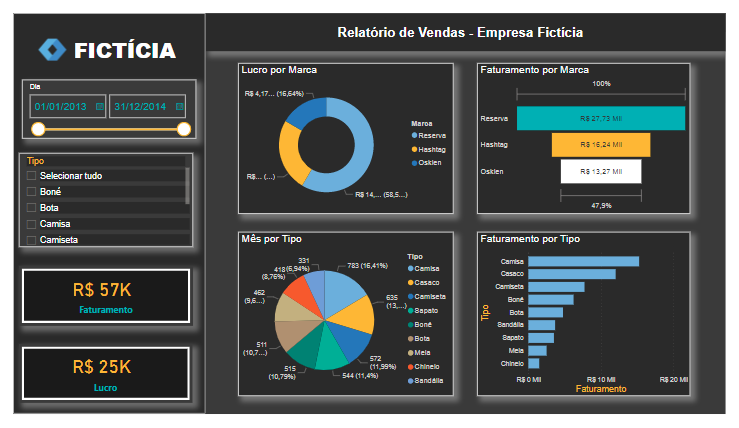

This screenshot's page, from the dashboard's own definition file:
{"tool":"powerbi","page":{"name":"Página 1","canvas":[1280,720],"ordinal":0},"visuals":[{"type":"textbox","box":[345.2,0,934.8,68.4],"z":0},{"type":"donutChart","fields":{"Category":["Tabela 1 (Vendas).Marca"],"Y":["Sum(Tabela 1 (Vendas).Lucro)"]},"box":[403.9,89.3,386.9,270.7],"z":1000},{"type":"pieChart","fields":{"Category":["Tabela 1 (Vendas).Tipo"],"Y":["Sum(Tabela 1 (Vendas).Mês)"]},"box":[403.9,392.6,386.9,294.8],"z":2000},{"type":"funnel","fields":{"Category":["Tabela 1 (Vendas).Marca"],"Y":["Sum(Tabela 1 (Vendas).Faturamento)"]},"box":[833.4,89.3,382.7,270.7],"z":3000},{"type":"shape","box":[0,0,345.2,719.5],"z":4000},{"type":"image","box":[36.9,22.7,66.6,83.6],"z":5000},{"type":"slicer","fields":{"Values":["Tabela 1 (Vendas).Tipo"]},"box":[9.9,250.9,313.2,168.7],"z":6000},{"type":"textbox","box":[103.5,34,218.3,72.3],"z":7000},{"type":"slicer","fields":{"Values":["Tabela 1 (Vendas).Dia"]},"box":[15.6,119.1,313.2,106.3],"z":8000},{"type":"advanceCardE03760C5AB684758B56AA29F9E6C257B","fields":{"mainMeasure":["Sum(Tabela 1 (Vendas).Faturamento)"]},"box":[9.9,453.5,313.2,107.7],"z":9000},{"type":"advanceCardE03760C5AB684758B56AA29F9E6C257B","fields":{"mainMeasure":["Sum(Tabela 1 (Vendas).Lucro)"]},"box":[9.9,593.9,311.8,106.3],"z":10000},{"type":"barChart","fields":{"Y":["Sum(Tabela 1 (Vendas).Faturamento)"],"Category":["Tabela 1 (Vendas).Tipo"]},"box":[833.4,392.6,382.7,294.8],"z":11000}]}

Visuals, with their boxes in screenshot pixels (x1, y1, x2, y2), scaled from the page's 1280x720 canvas onto the 739x428 screenshot:
textbox: rect(199, 0, 738, 41)
donutChart - Tabela 1 (Vendas).Marca x Sum(Tabela 1 (Vendas).Lucro): rect(233, 53, 457, 214)
pieChart - Tabela 1 (Vendas).Tipo x Sum(Tabela 1 (Vendas).Mês): rect(233, 233, 457, 409)
funnel - Tabela 1 (Vendas).Marca x Sum(Tabela 1 (Vendas).Faturamento): rect(481, 53, 702, 214)
shape: rect(0, 0, 199, 427)
image: rect(21, 13, 60, 63)
slicer - Tabela 1 (Vendas).Tipo: rect(6, 149, 187, 249)
textbox: rect(60, 20, 186, 63)
slicer - Tabela 1 (Vendas).Dia: rect(9, 71, 190, 134)
advanceCardE03760C5AB684758B56AA29F9E6C257B - Sum(Tabela 1 (Vendas).Faturamento): rect(6, 270, 187, 334)
advanceCardE03760C5AB684758B56AA29F9E6C257B - Sum(Tabela 1 (Vendas).Lucro): rect(6, 353, 186, 416)
barChart - Sum(Tabela 1 (Vendas).Faturamento) x Tabela 1 (Vendas).Tipo: rect(481, 233, 702, 409)
